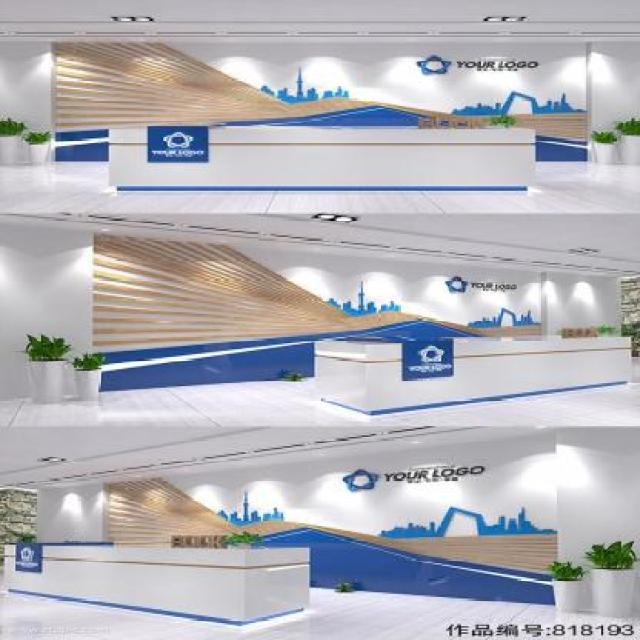frontdesk: (97, 114, 548, 201), (287, 323, 640, 419), (0, 527, 325, 630)
